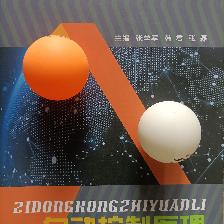WhiteBall: (137, 100, 201, 163)
YellowBall: (22, 33, 89, 101)
